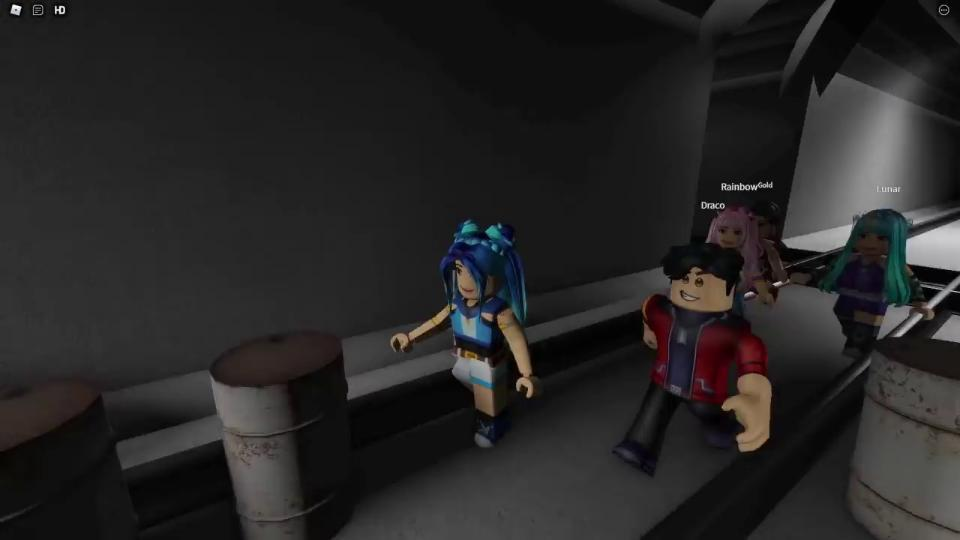Character: (614, 238, 773, 479), (390, 221, 539, 450), (809, 208, 934, 365), (706, 207, 789, 307)
